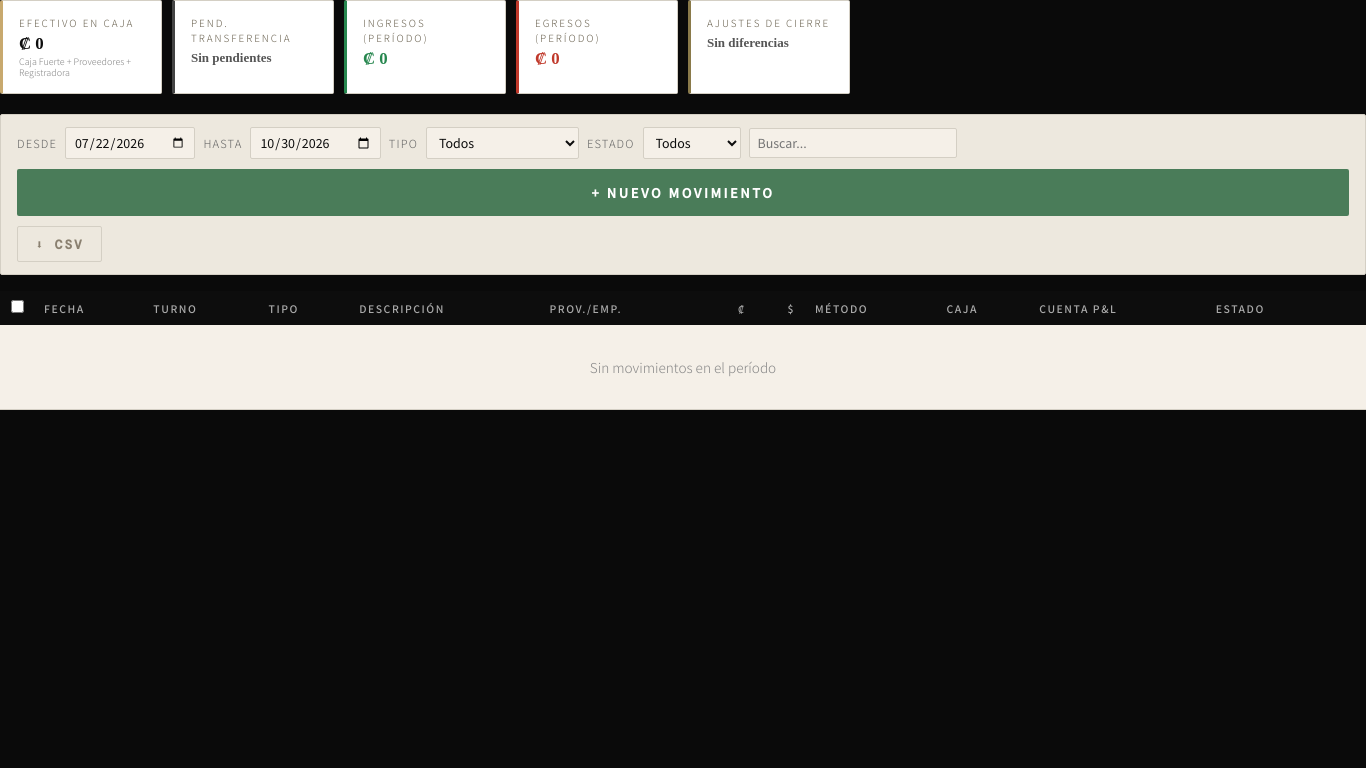
Test case: CashMovimientos · Nuevo movimiento — guard de fecha › FUTURO: bloqueado para TODOS (incluye owner)
This screenshot has width=1366, height=768.
Click the button "+ Nuevo movimiento" at (683, 192), box top-left (17, 169), bottom-right (1349, 216)
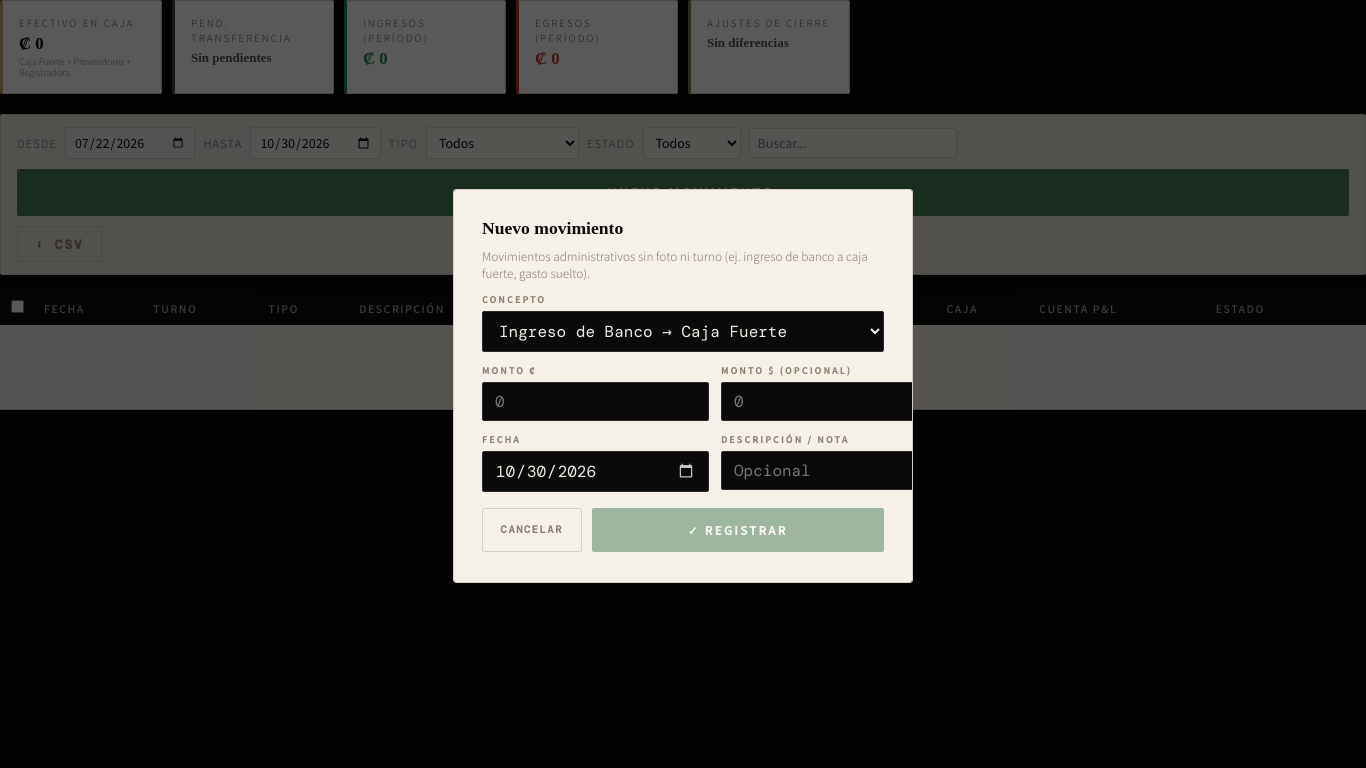
Type "5000" into the number field with placeholder "0" below "Monto ₡" at (596, 401), box top-left (482, 382), bottom-right (709, 421)
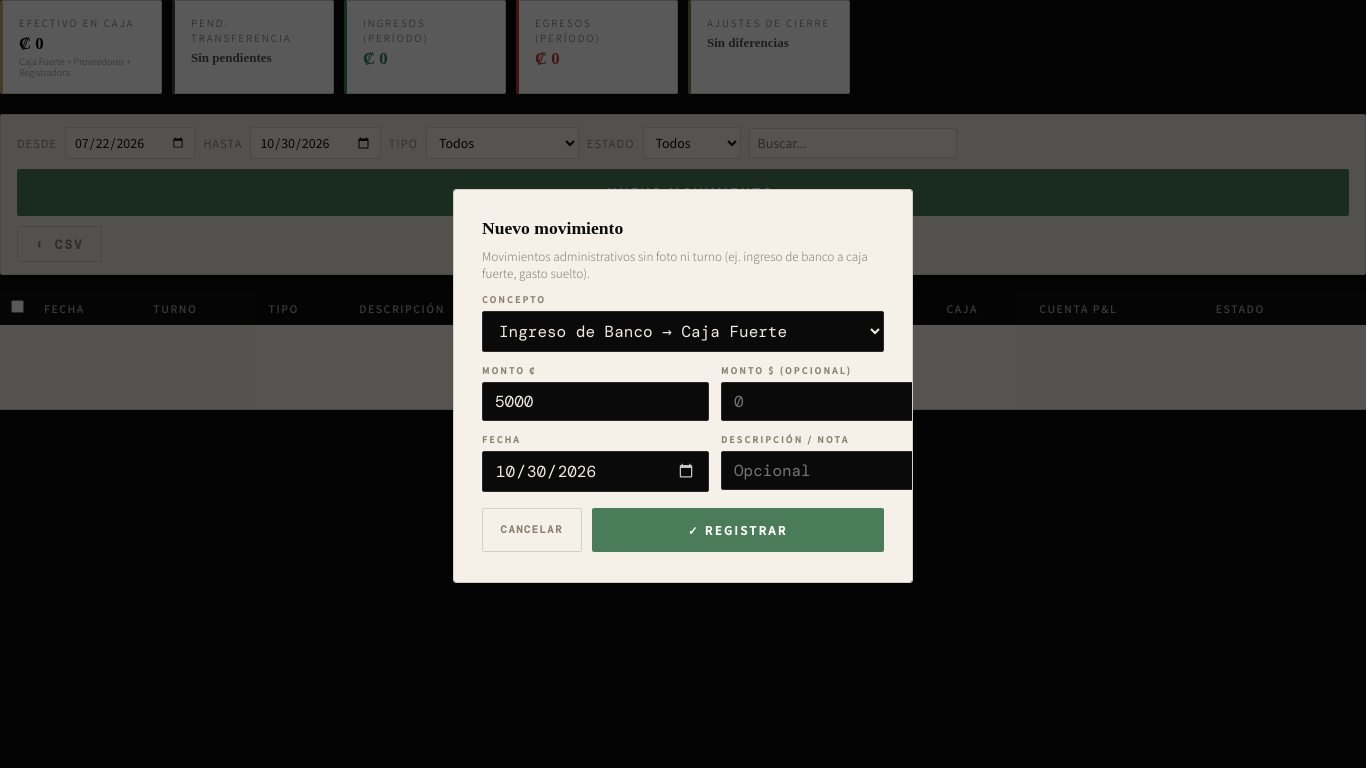
Type "2999-12-31" into the date field named "Fecha del movimiento" at (596, 471), box top-left (482, 451), bottom-right (709, 492)
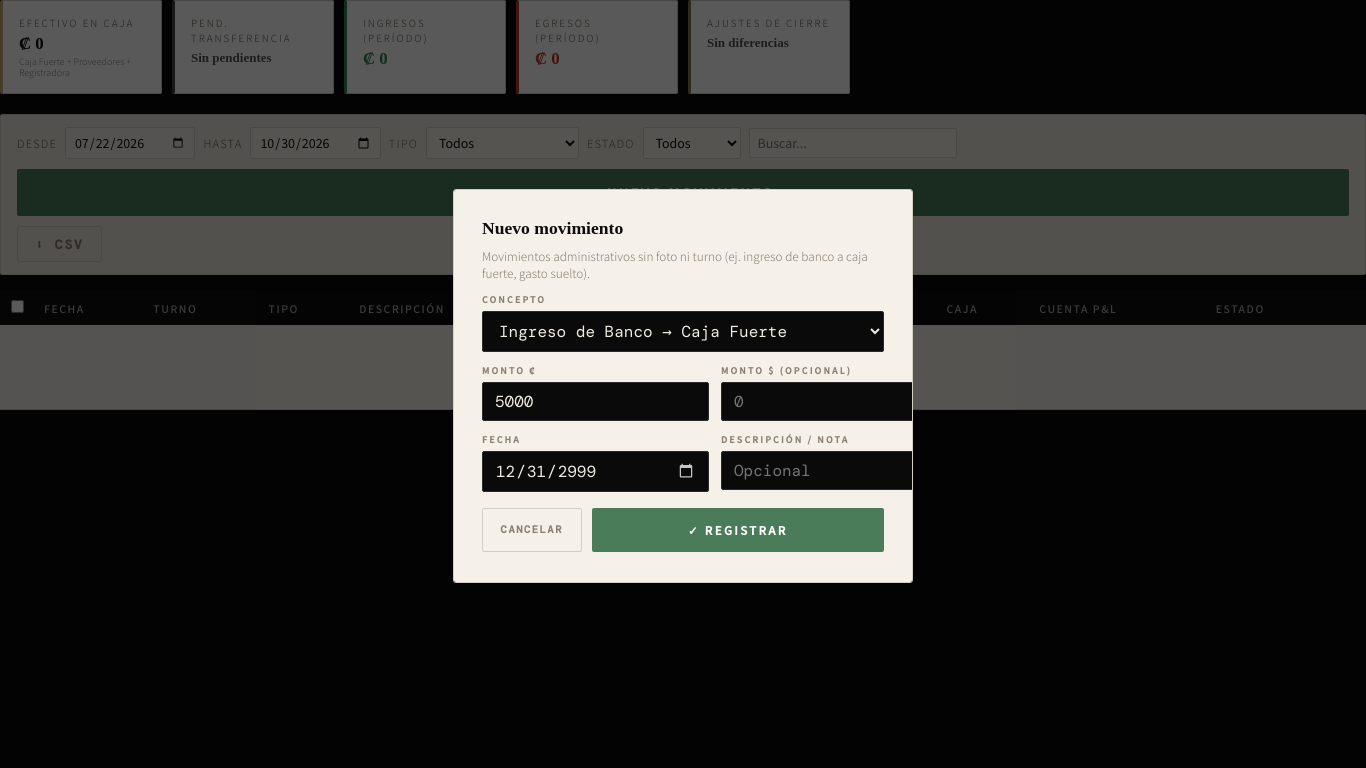
Click the button "✓ Registrar" at (738, 530), box top-left (592, 508), bottom-right (884, 552)
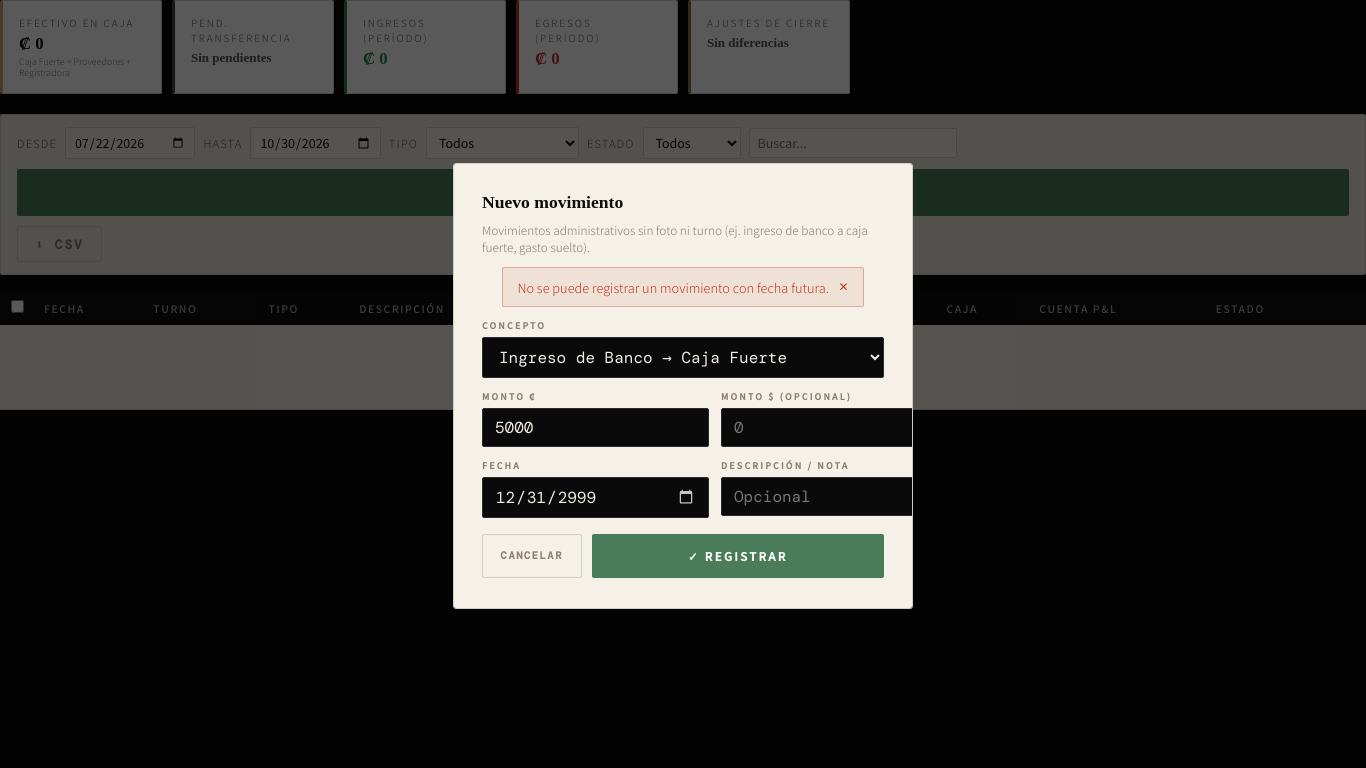
expect the text "No se puede registrar un movimiento con fecha futura." is shown: met, box top-left (517, 278), bottom-right (829, 297)
